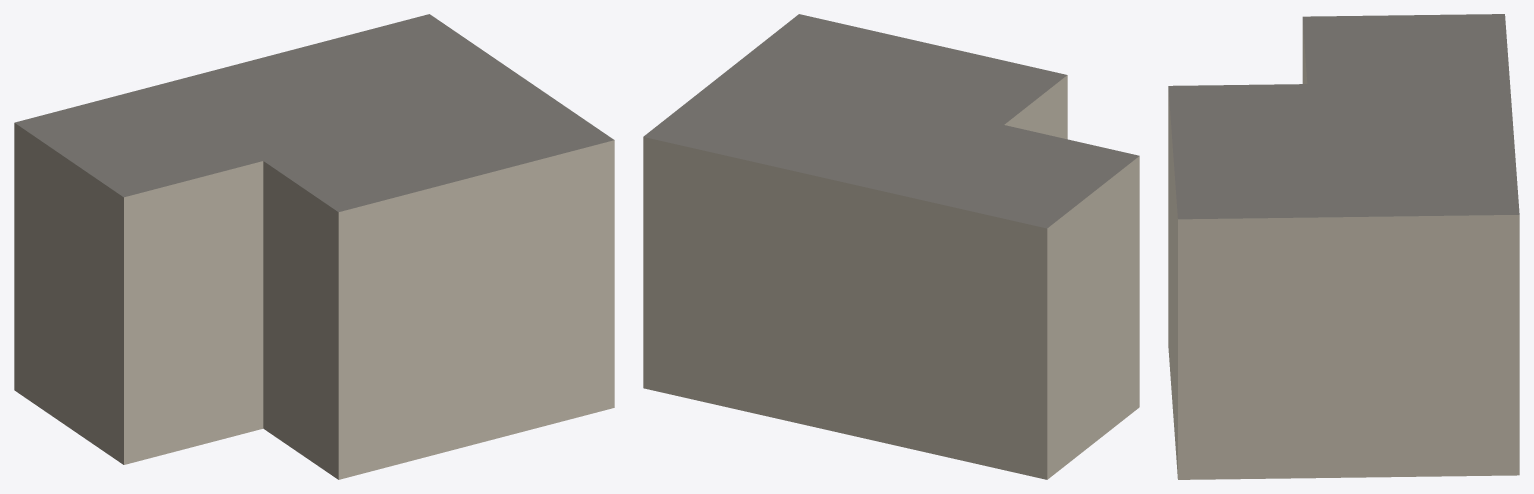
The picture shows the model from 3 angles, left to right: view 1: azimuth 30°, elevation 25°; view 2: azimuth 150°, elevation 25°; view 3: azimuth 270°, elevation 25°; orthographic projection. The views are drawn at different scales.
Parts seen in each view (by area): view 1: HP-w369317592; view 2: HP-w369317592; view 3: HP-w369317592.
Part boxes in pixels (x1,y1,x2,y2): HP-w369317592: [14, 14, 614, 479]; HP-w369317592: [643, 14, 1139, 479]; HP-w369317592: [1168, 14, 1519, 479].
Size of the model in its own units: 20.28 by 12 by 14.66.
